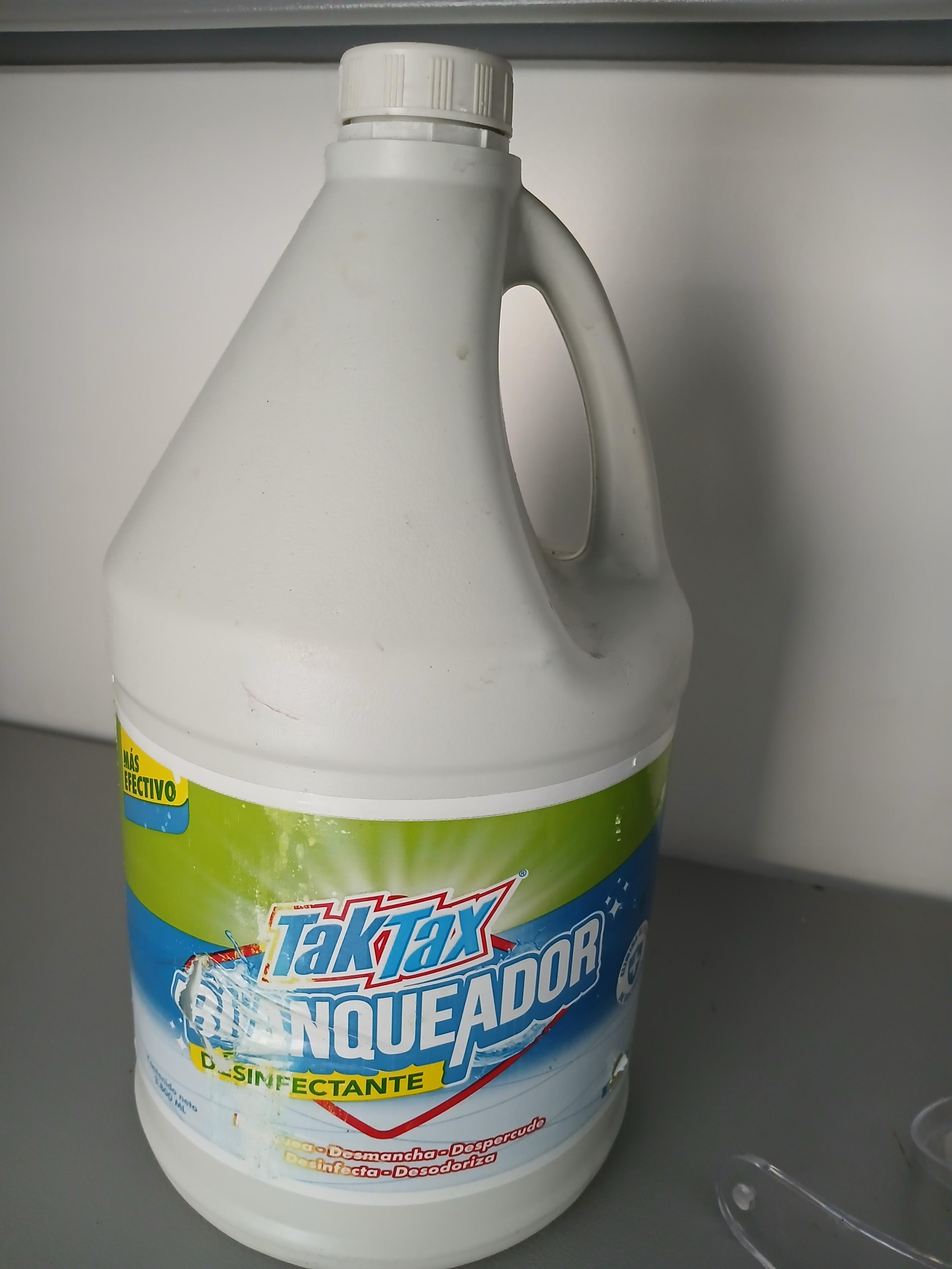Plastico: (99, 41, 692, 1269)
